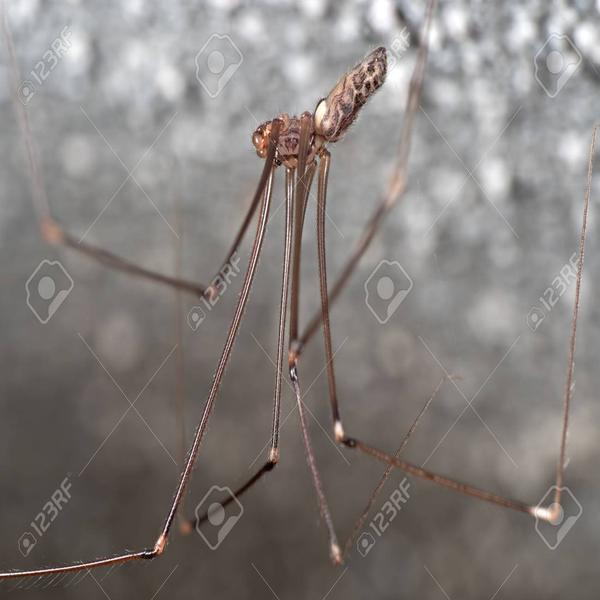Daddy Long Legs Spider: (25, 49, 575, 581)
